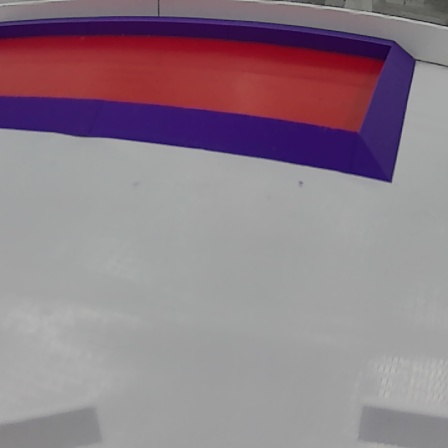red_aim: (0, 13, 410, 186)
